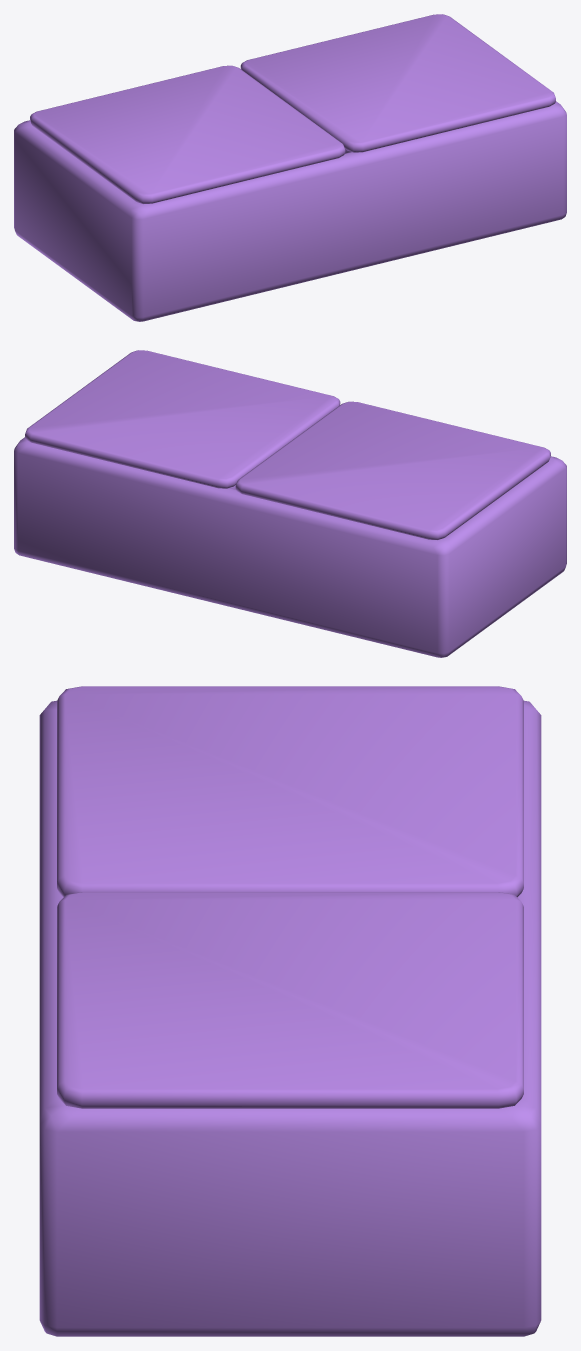
Rendered from Block-I-Purple.fbx.
The picture shows the model from 3 angles, top to bottom: view 1: azimuth 30°, elevation 25°; view 2: azimuth 150°, elevation 25°; view 3: azimuth 270°, elevation 25°; orthographic projection. The views are drawn at different scales.
Visible parts, largest first — view 1: Block-I-Purple, Cube.044; view 2: Block-I-Purple, Cube.044; view 3: Cube.044, Block-I-Purple.
Part boxes in pixels (left/top/right/bottom): Block-I-Purple: left=14, top=101, right=566, bottom=321; Cube.044: left=30, top=14, right=555, bottom=203; Block-I-Purple: left=14, top=437, right=566, bottom=657; Cube.044: left=25, top=350, right=550, bottom=539; Cube.044: left=57, top=686, right=523, bottom=1108; Block-I-Purple: left=39, top=700, right=541, bottom=1336.
Size of the model in its own units: 200 by 54.11 by 100.
